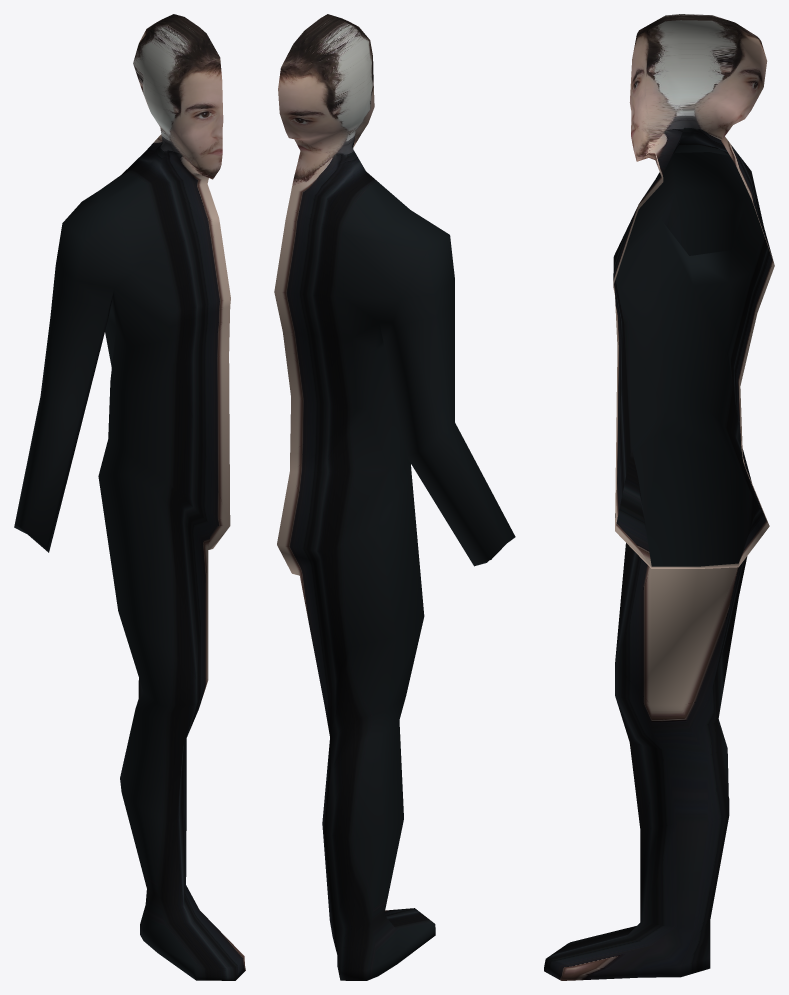
Rendered from moi.glb.
The picture shows the model from 3 angles, left to right: view 1: azimuth 30°, elevation 25°; view 2: azimuth 150°, elevation 25°; view 3: azimuth 270°, elevation 25°; orthographic projection. The views are drawn at different scales.
Parts seen in each view (by area): view 1: Cube.001; view 2: Cube.001; view 3: Cube.001.
Boxes of the visible parts, x1=… form: Cube.001: x1=14, y1=14, x2=245, y2=980; Cube.001: x1=274, y1=14, x2=515, y2=980; Cube.001: x1=544, y1=14, x2=774, y2=980.
Size of the model in its own units: 0.3383 by 1.6 by 0.3469.
1 material, 1 textured.
